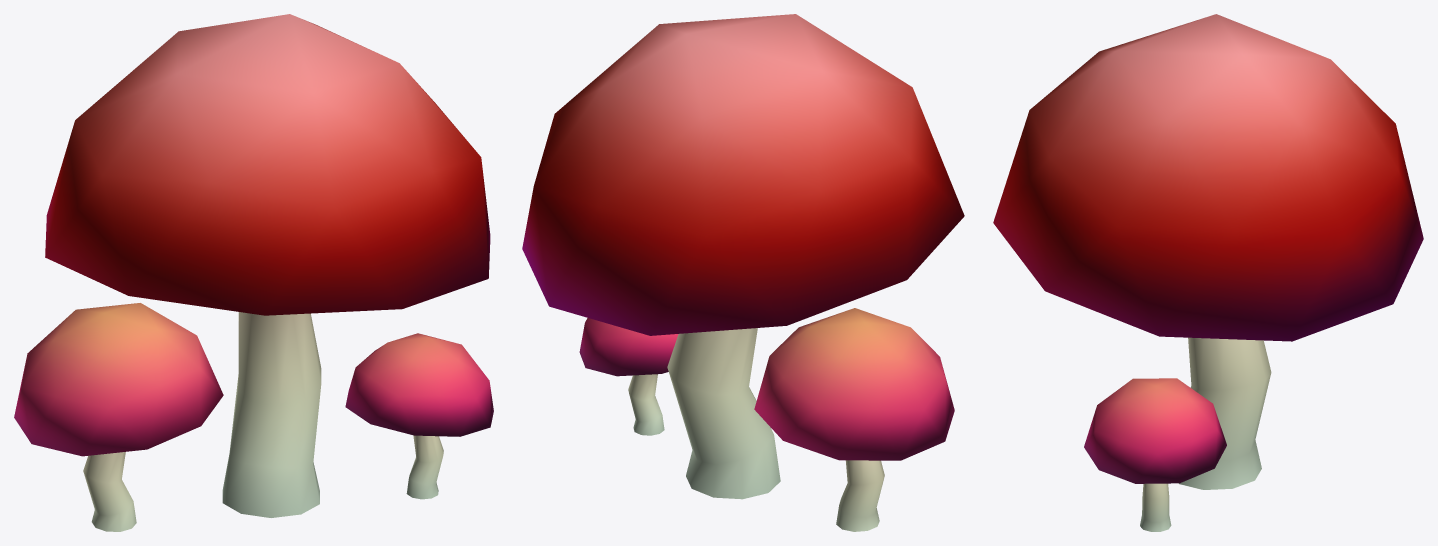
File: W1_OBSTACLE_3.fbx
3 views of the same model, side by side, from view 1: azimuth 30°, elevation 25°; view 2: azimuth 150°, elevation 25°; view 3: azimuth 270°, elevation 25° (orthographic). The views are drawn at different scales.
Parts seen in each view (by area): view 1: W1_OBSTACLE_3; view 2: W1_OBSTACLE_3; view 3: W1_OBSTACLE_3.
Boxes of the visible parts, <box> form: W1_OBSTACLE_3: <box>14,14,493,531</box>; W1_OBSTACLE_3: <box>522,14,964,531</box>; W1_OBSTACLE_3: <box>993,14,1423,531</box>.
Size of the model in its own units: 467 by 496 by 448.
